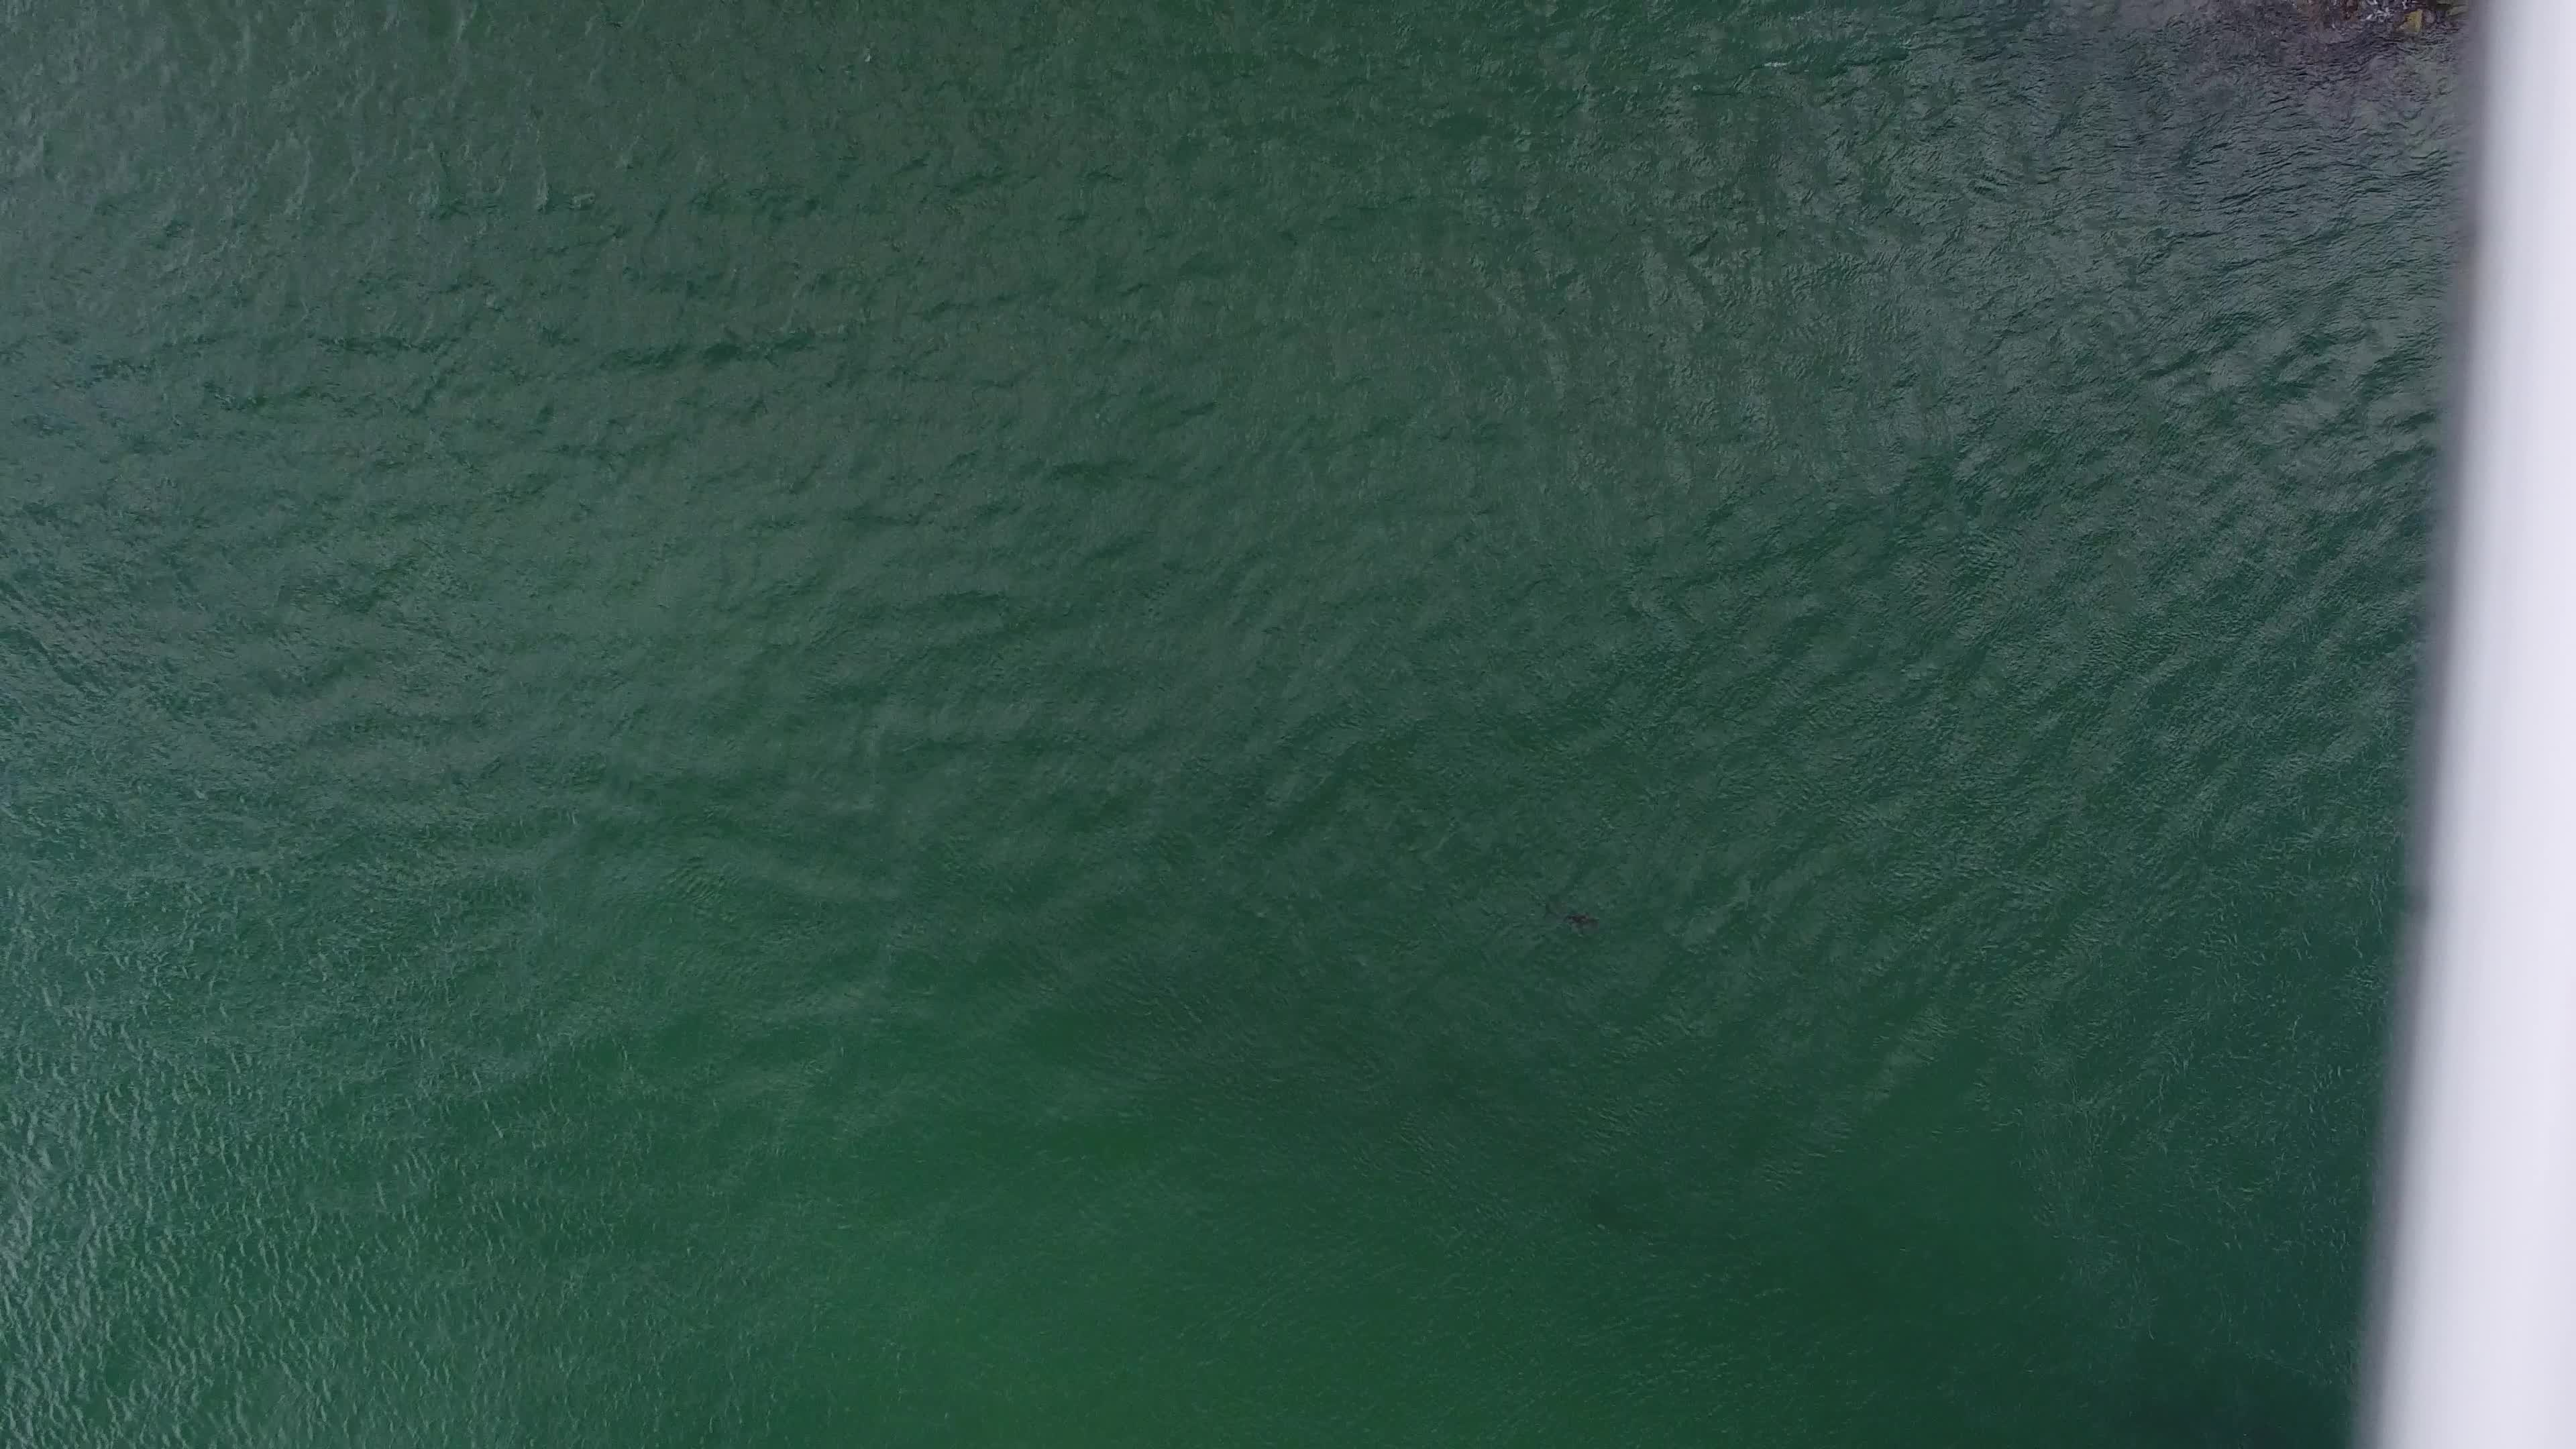dolphin: (1516, 878, 1614, 952)
